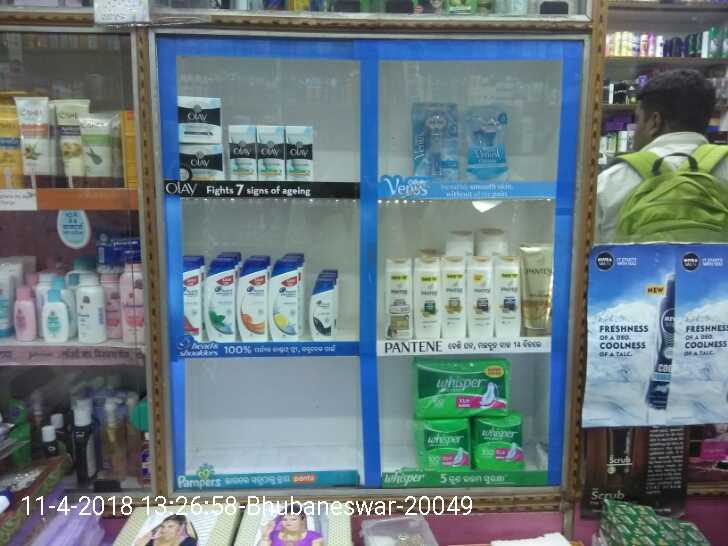venus: (412, 103, 459, 180), (465, 105, 511, 181)
